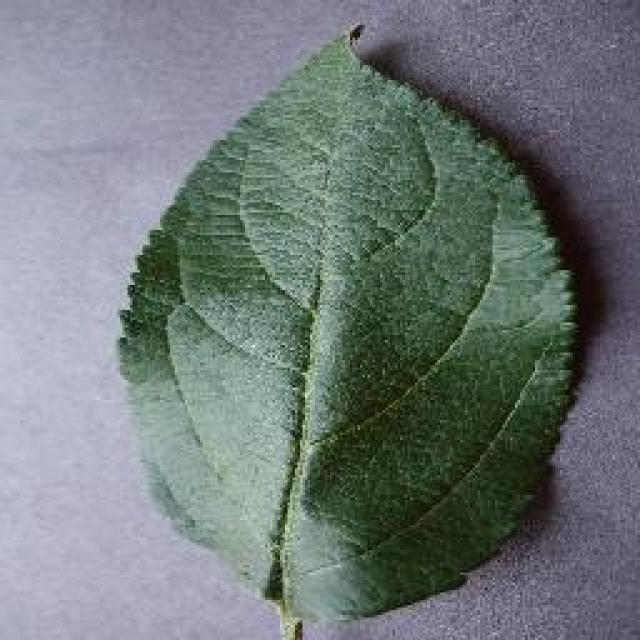apple healthy: (113, 20, 585, 638)
